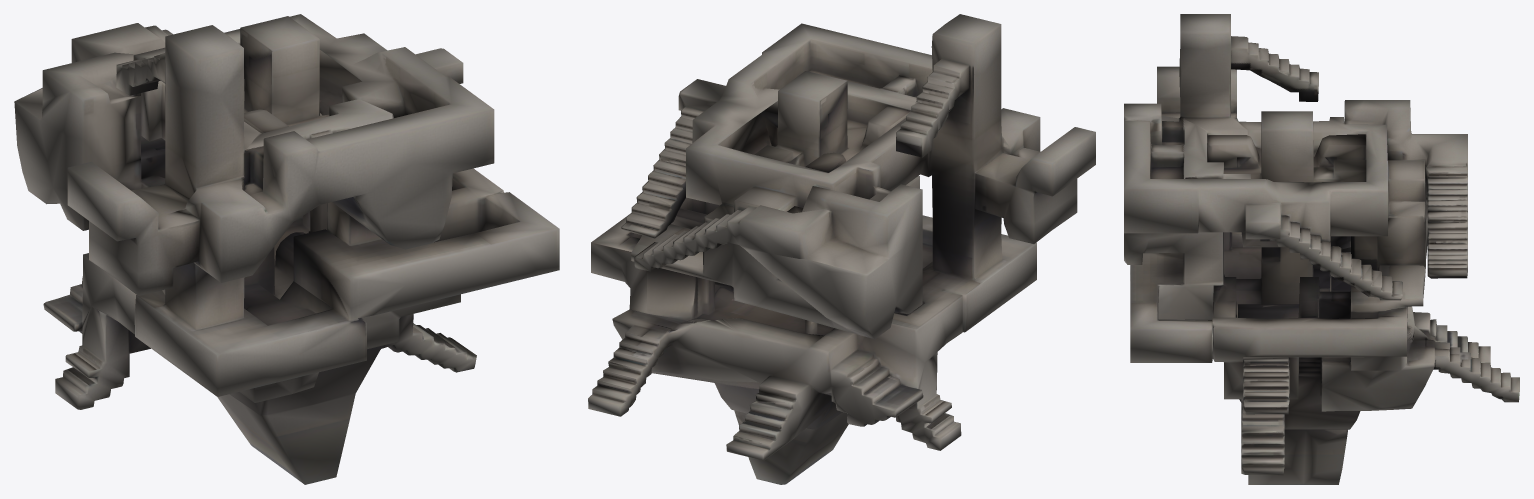
Rendered from staircase 2.glb.
3 renders of one model, left to right at view 1: azimuth 30°, elevation 25°; view 2: azimuth 150°, elevation 25°; view 3: azimuth 270°, elevation 25°, orthographic. The views are drawn at different scales.
Visible parts, largest first — view 1: tripo_node_53377566-6824-4206-aa5a-8286e0420acb; view 2: tripo_node_53377566-6824-4206-aa5a-8286e0420acb; view 3: tripo_node_53377566-6824-4206-aa5a-8286e0420acb.
Part boxes in pixels (left/top/right/bottom): tripo_node_53377566-6824-4206-aa5a-8286e0420acb: left=14, top=14, right=559, bottom=484; tripo_node_53377566-6824-4206-aa5a-8286e0420acb: left=588, top=14, right=1095, bottom=484; tripo_node_53377566-6824-4206-aa5a-8286e0420acb: left=1124, top=14, right=1519, bottom=484.
Size of the model in its own units: 0.998 by 0.998 by 0.8965.
Materials: 1 (1 with a texture image).
